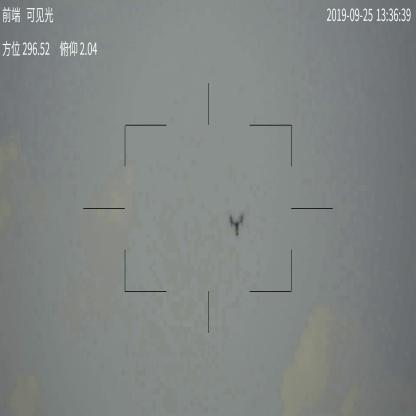uav: (227, 211, 244, 235)
